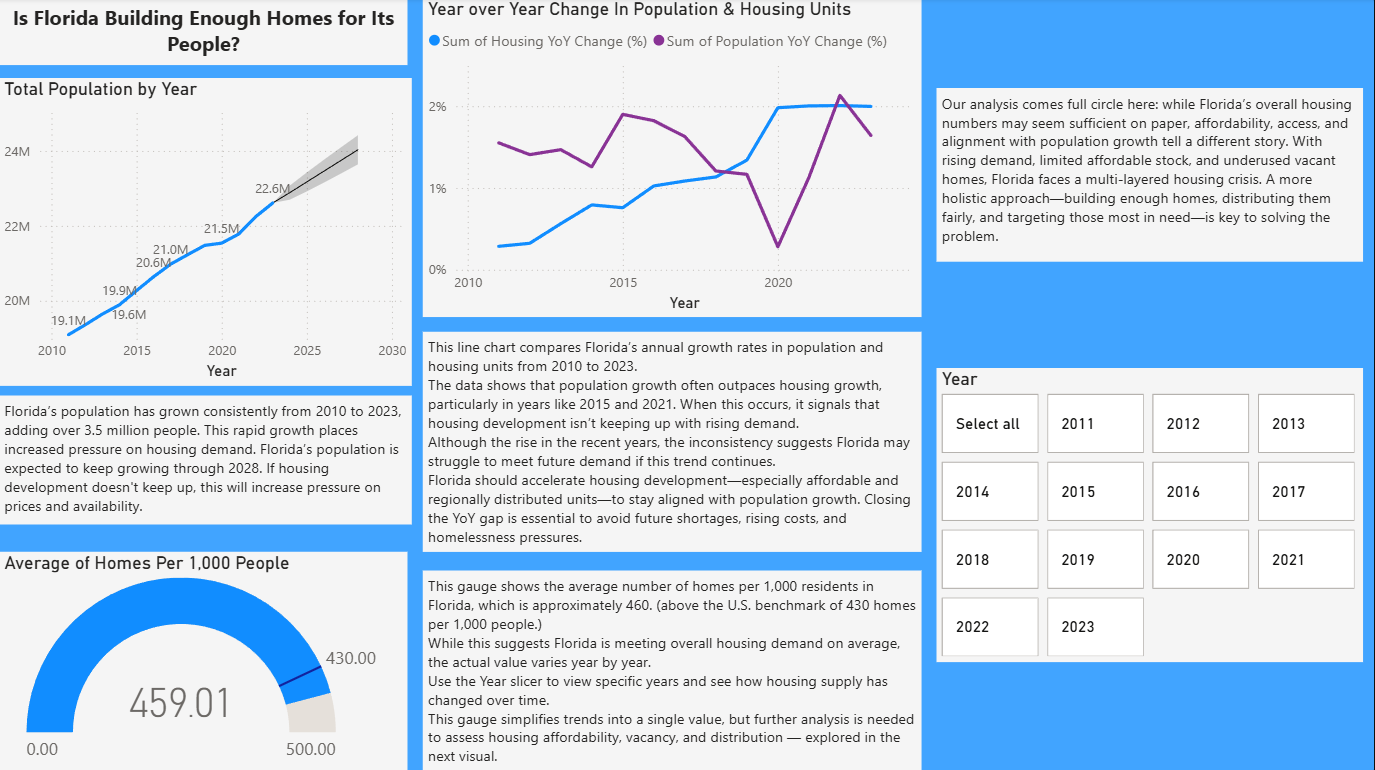

This screenshot's page, from the dashboard's own definition file:
{"tool":"powerbi","page":{"name":"Population Growth vs. Housing Supply","canvas":[1280,720],"ordinal":3},"visuals":[{"type":"textbox","box":[0,0,280,55],"z":0},{"type":"lineChart","fields":{"Category":["Total Units & Population.Year"],"Y":["Sum(Total Units & Population.Population)"]},"box":[0,55,384,286],"z":1000},{"type":"textbox","box":[0,341,384,120],"z":2000},{"type":"lineChart","title":"Year over Year Change In Population & Housing Units","fields":{"Y":["Sum(Total Units & Population.Housing YoY Change (%))","Sum(Total Units & Population.Population YoY Change (%))"],"Category":["Total Units & Population.Year"]},"box":[384,0,470,286],"z":3000},{"type":"gauge","fields":{"Y":["Avg(Total Units & Population.Homes Per 1,000 People)"]},"box":[380,480,518.8,240],"z":4000},{"type":"advancedSlicerVisual","fields":{"Values":["Total Units & Population.Year"]},"box":[872.5,0,407.5,275],"z":5000},{"type":"textbox","box":[89,480,295,240],"z":6000},{"type":"textbox","box":[898.8,452.5,377.5,267.5],"z":7000}]}

Visuals, with their boxes in screenshot pixels (x1, y1, x2, y2), scaled from the page's 1280x720 canvas onto the 1375x770 screenshot:
textbox: [x1=0, y1=0, x2=301, y2=59]
lineChart - Total Units & Population.Year x Sum(Total Units & Population.Population): [x1=0, y1=59, x2=412, y2=365]
textbox: [x1=0, y1=365, x2=412, y2=493]
"Year over Year Change In Population & Housing Units" lineChart: [x1=412, y1=0, x2=917, y2=306]
gauge - Avg(Total Units & Population.Homes Per 1,000 People): [x1=408, y1=513, x2=966, y2=769]
advancedSlicerVisual - Total Units & Population.Year: [x1=937, y1=0, x2=1374, y2=294]
textbox: [x1=96, y1=513, x2=412, y2=769]
textbox: [x1=966, y1=484, x2=1371, y2=769]
